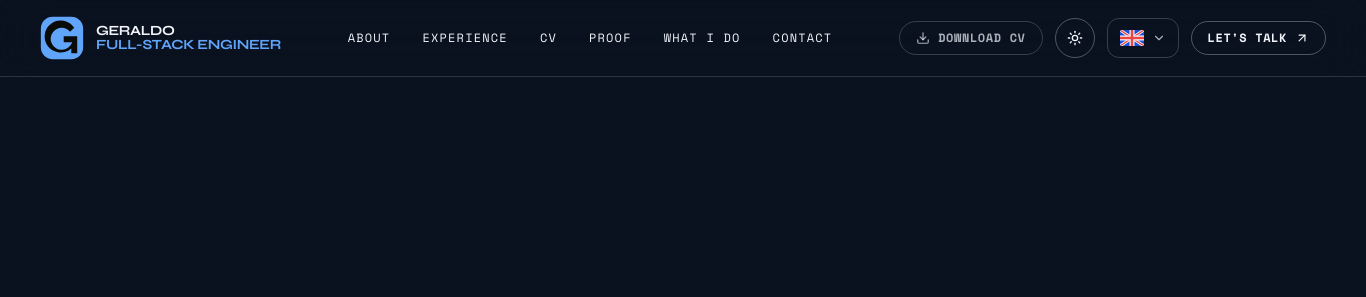
Test: SiteHeader › selects a desktop language and closes the picker
The width and height of the screenshot is (1366, 297).
Click the button named "Current language: English" at {"x": 1142, "y": 38}, box [1106,18,1178,58]
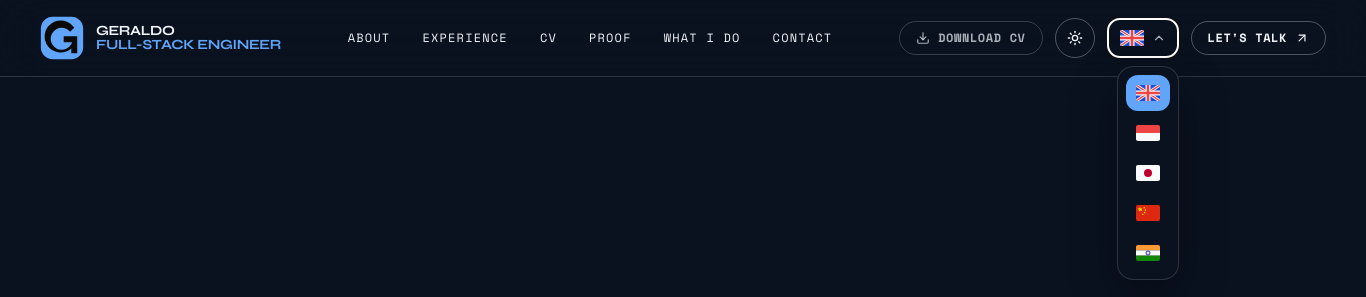
Now the button named "Current language: English" is expanded, box [1106,18,1178,58]
Click the button named "Switch language to Indonesia" at {"x": 1148, "y": 133}, box [1126,115,1170,151]
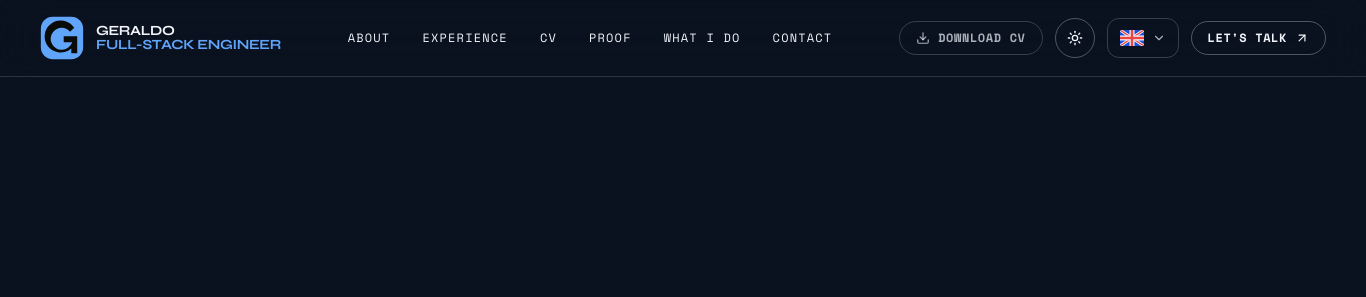
Now the button named "Current language: English" is collapsed, box [1106,18,1178,58]
